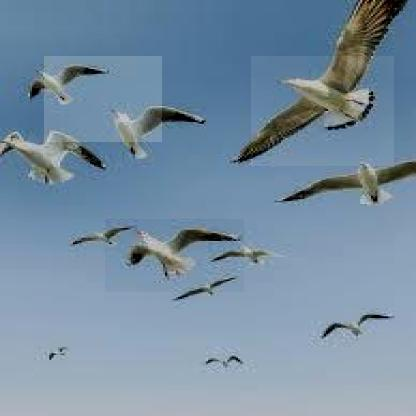bird: (251, 56, 394, 166), (44, 56, 162, 142), (105, 219, 244, 292)
